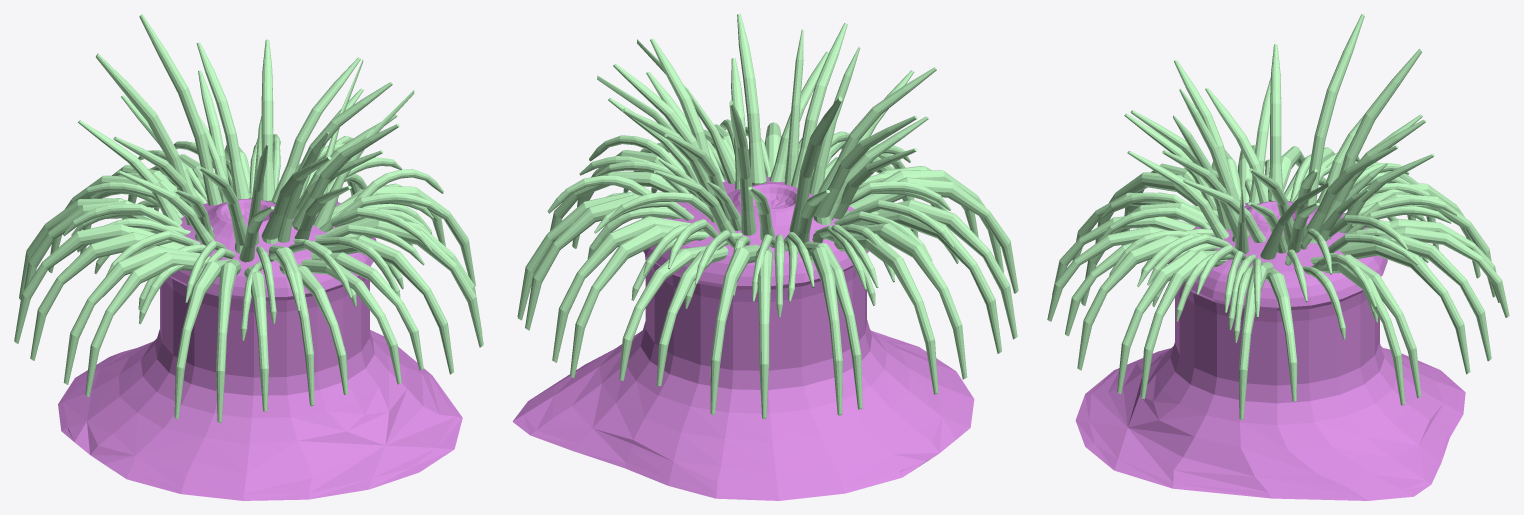
Rendered from Anemone_1.FBX.
The picture shows the model from 3 angles, left to right: view 1: azimuth 30°, elevation 25°; view 2: azimuth 150°, elevation 25°; view 3: azimuth 270°, elevation 25°; orthographic projection. The views are drawn at different scales.
Parts seen in each view (by area): view 1: Anemone_1; view 2: Anemone_1; view 3: Anemone_1.
Boxes of the visible parts, bbox=[...] form: Anemone_1: bbox=[14, 14, 483, 500]; Anemone_1: bbox=[512, 14, 1018, 500]; Anemone_1: bbox=[1047, 14, 1509, 500].
Size of what is drawn, in the model's own units: 211 by 212 by 177.
